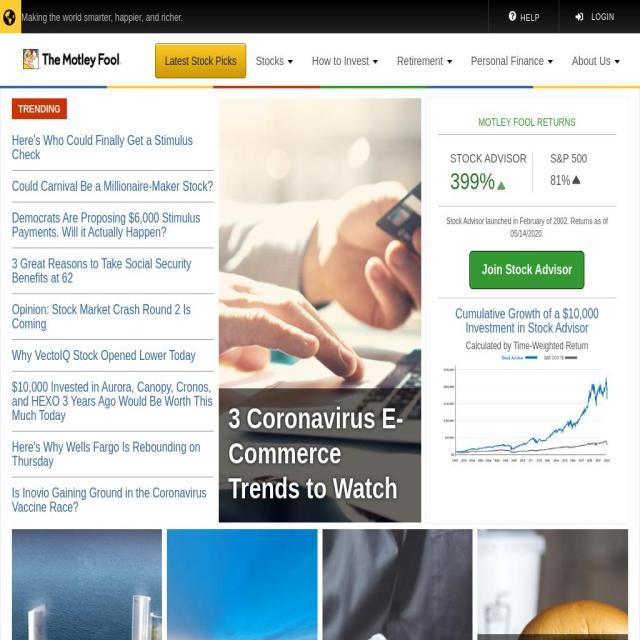button: (219, 99, 421, 522), (322, 529, 473, 640), (12, 529, 162, 640), (167, 529, 317, 640), (478, 529, 628, 640), (12, 372, 214, 431), (12, 202, 214, 248), (12, 248, 214, 294), (12, 125, 214, 170), (12, 294, 214, 339), (12, 432, 214, 476), (12, 478, 214, 522), (12, 170, 214, 202), (12, 340, 214, 371), (461, 36, 563, 86), (469, 250, 585, 289), (303, 36, 388, 86), (387, 36, 462, 86), (562, 36, 630, 86), (154, 44, 247, 78), (10, 48, 121, 74), (246, 36, 303, 86), (488, 0, 560, 33), (572, 10, 617, 23), (3, 9, 18, 24)
heading: (228, 401, 412, 506), (438, 114, 616, 130), (22, 48, 122, 70)
image: (219, 99, 421, 522), (442, 353, 612, 464), (322, 529, 473, 640), (12, 529, 162, 640), (167, 529, 317, 640), (478, 529, 628, 640), (3, 9, 16, 26), (106, 86, 214, 88), (213, 86, 321, 88), (426, 86, 534, 88), (0, 86, 107, 88), (320, 86, 427, 88), (533, 86, 640, 88), (494, 173, 507, 189), (570, 166, 582, 183), (286, 56, 295, 66), (371, 56, 380, 66), (445, 56, 454, 66), (546, 56, 555, 66), (508, 11, 516, 21), (575, 12, 583, 22), (613, 56, 621, 66)
text: (442, 306, 612, 335), (442, 215, 612, 240), (21, 8, 183, 25), (466, 338, 588, 354), (12, 98, 67, 120), (470, 54, 544, 68), (450, 170, 495, 193), (450, 152, 527, 164), (312, 54, 369, 68), (397, 54, 443, 68), (572, 54, 611, 68), (550, 152, 588, 164), (256, 54, 284, 68), (550, 174, 571, 188), (592, 10, 614, 23), (520, 12, 540, 22)
